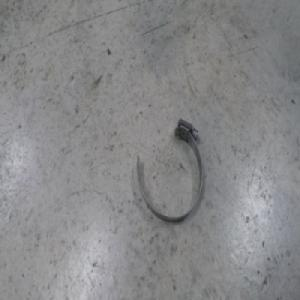AdjustableClamp: (136, 120, 204, 225)
